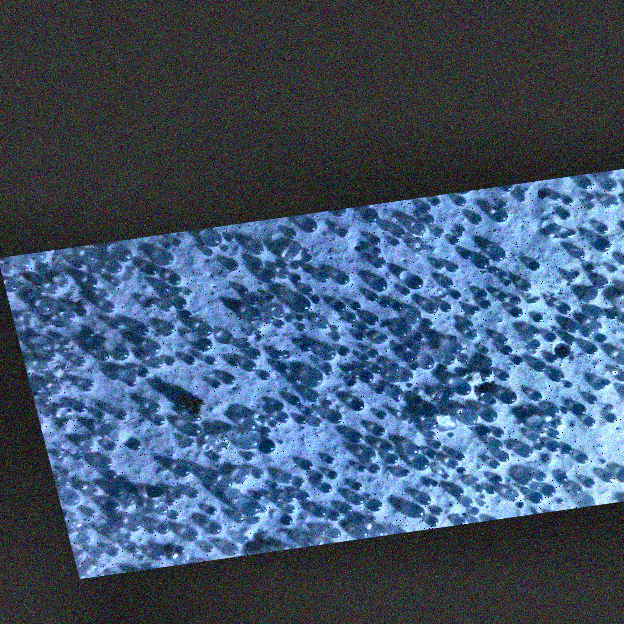GrassBeadSeg: (225, 306, 476, 554), (96, 338, 463, 469), (35, 251, 206, 435), (242, 369, 398, 515), (457, 350, 623, 480), (99, 225, 414, 285), (111, 460, 311, 554), (116, 469, 338, 549), (276, 366, 485, 444), (548, 177, 619, 381), (301, 415, 485, 491), (267, 232, 458, 300), (36, 223, 426, 253), (32, 277, 163, 366), (317, 440, 441, 533), (83, 377, 236, 442), (425, 418, 537, 502), (296, 415, 466, 469), (303, 217, 507, 260), (258, 259, 343, 355), (427, 303, 547, 371), (419, 406, 533, 477), (459, 406, 559, 486), (79, 464, 190, 534), (124, 506, 261, 560), (552, 328, 606, 461), (467, 196, 524, 314), (240, 294, 276, 478), (372, 423, 430, 535), (112, 237, 182, 328), (376, 385, 458, 462), (515, 367, 566, 483), (414, 389, 518, 443), (470, 178, 592, 224), (461, 260, 541, 329), (251, 259, 330, 328), (383, 410, 467, 474), (240, 374, 315, 444), (284, 253, 324, 384), (188, 359, 256, 435), (274, 418, 442, 448), (493, 208, 610, 251), (574, 398, 623, 493), (450, 354, 622, 381), (498, 211, 570, 273), (340, 227, 396, 306), (69, 488, 184, 526), (319, 344, 361, 448), (307, 355, 401, 400), (254, 229, 296, 327), (108, 451, 255, 479), (98, 437, 255, 463), (419, 331, 502, 380), (329, 462, 381, 538), (321, 307, 422, 346), (435, 460, 500, 520), (220, 243, 380, 267), (169, 244, 264, 284), (286, 489, 362, 538), (549, 400, 623, 450), (41, 351, 109, 405), (307, 366, 411, 401), (172, 238, 281, 271), (193, 418, 257, 474), (491, 409, 580, 449), (369, 227, 406, 316), (563, 414, 616, 475), (536, 432, 594, 487), (38, 385, 160, 411), (322, 272, 379, 324), (96, 263, 264, 280), (36, 287, 94, 336), (175, 492, 310, 513), (449, 444, 572, 467), (369, 480, 438, 521), (170, 494, 280, 519), (99, 534, 248, 552), (235, 260, 282, 317), (322, 506, 443, 528), (312, 472, 382, 510), (567, 273, 607, 339), (406, 382, 454, 437), (269, 419, 335, 458), (347, 369, 386, 435), (86, 484, 129, 543), (322, 364, 382, 406), (505, 280, 557, 328), (284, 494, 342, 537), (468, 303, 563, 329), (61, 441, 117, 485), (449, 236, 507, 278), (262, 440, 376, 461), (212, 353, 283, 386), (453, 451, 505, 496), (530, 223, 548, 353), (487, 425, 518, 499), (279, 364, 332, 407), (441, 196, 466, 286), (260, 362, 400, 378), (219, 243, 275, 282), (480, 406, 555, 435), (78, 496, 124, 543), (423, 215, 453, 287), (76, 441, 230, 455), (298, 313, 333, 373), (238, 337, 350, 355), (563, 414, 616, 452), (127, 374, 166, 425), (556, 381, 572, 503), (251, 259, 295, 303), (45, 328, 90, 371), (239, 286, 294, 321), (498, 428, 555, 461), (187, 490, 244, 522), (400, 467, 442, 509), (301, 207, 373, 231), (150, 281, 170, 367), (92, 253, 108, 360), (208, 513, 293, 533), (63, 470, 140, 492), (76, 246, 88, 387), (479, 399, 496, 498), (391, 237, 471, 258), (456, 202, 503, 237), (231, 232, 274, 270), (520, 450, 556, 495), (387, 454, 427, 494), (157, 402, 194, 445), (476, 213, 508, 262), (448, 402, 497, 434), (472, 476, 570, 492), (13, 282, 105, 299), (33, 250, 77, 284), (62, 276, 95, 321), (485, 307, 523, 346), (441, 474, 487, 506), (354, 352, 409, 378), (420, 489, 513, 504), (353, 368, 469, 380), (377, 410, 436, 433), (141, 273, 182, 306), (56, 276, 108, 302), (256, 348, 294, 383), (361, 331, 387, 382), (76, 259, 109, 299), (270, 286, 306, 322), (518, 198, 556, 232), (179, 433, 218, 466), (362, 209, 380, 278), (482, 353, 535, 376), (246, 331, 291, 357), (383, 203, 431, 227), (156, 485, 200, 511), (394, 324, 414, 381), (65, 477, 94, 516), (566, 462, 605, 491), (266, 426, 379, 436), (406, 451, 465, 470), (129, 414, 161, 449), (587, 308, 611, 354), (33, 385, 72, 413), (48, 283, 168, 292), (374, 227, 437, 244), (248, 316, 304, 335), (374, 255, 386, 342), (280, 512, 366, 524), (91, 506, 216, 514), (351, 430, 374, 473), (291, 460, 312, 507), (412, 332, 446, 361), (285, 363, 393, 372), (313, 294, 335, 338), (504, 370, 535, 401), (418, 360, 437, 410), (311, 295, 390, 307), (596, 198, 616, 245), (244, 491, 264, 537), (433, 303, 448, 364), (599, 224, 618, 272), (280, 307, 323, 328), (406, 365, 447, 387), (63, 307, 87, 344), (161, 296, 187, 330), (315, 505, 364, 523), (230, 357, 270, 379), (78, 307, 122, 327), (351, 371, 374, 409), (153, 524, 184, 552), (253, 515, 377, 522), (193, 414, 225, 441), (93, 549, 188, 558), (189, 248, 207, 295), (329, 398, 364, 422), (279, 349, 372, 358), (287, 229, 313, 261), (574, 248, 592, 293), (580, 178, 591, 251), (536, 440, 556, 480), (88, 486, 120, 511), (470, 484, 496, 514), (601, 277, 620, 318), (420, 344, 461, 363), (331, 411, 356, 442), (82, 402, 127, 419), (166, 496, 217, 511), (473, 246, 506, 268), (260, 412, 290, 436), (179, 542, 213, 563), (543, 428, 560, 470), (39, 357, 86, 372), (597, 315, 623, 342), (394, 214, 435, 231), (252, 244, 293, 261), (81, 438, 139, 450), (297, 273, 306, 349), (455, 196, 482, 221), (46, 288, 74, 312), (191, 437, 220, 460), (279, 268, 345, 278), (481, 391, 502, 422), (189, 423, 248, 434), (338, 221, 392, 233), (172, 310, 184, 364), (297, 322, 368, 331), (86, 523, 157, 532), (103, 263, 116, 312), (500, 203, 508, 282), (587, 202, 608, 232), (278, 412, 323, 426), (273, 341, 312, 357), (47, 335, 73, 359), (493, 428, 504, 483), (228, 260, 288, 270), (499, 474, 530, 493), (63, 407, 128, 416), (334, 469, 363, 489), (465, 345, 489, 369), (455, 380, 473, 412), (47, 396, 85, 411), (490, 443, 533, 456), (326, 354, 369, 367), (371, 277, 409, 291), (195, 464, 221, 484), (222, 471, 252, 488), (334, 322, 362, 340), (391, 309, 409, 337), (50, 379, 94, 390), (58, 275, 98, 287), (455, 497, 472, 524), (432, 197, 444, 235), (273, 394, 301, 410), (280, 400, 308, 416), (162, 302, 191, 317), (210, 232, 228, 256), (328, 502, 352, 520), (535, 441, 545, 484), (517, 497, 560, 507), (590, 256, 623, 269), (583, 292, 598, 320), (224, 364, 254, 378), (340, 493, 361, 513), (136, 322, 174, 333), (110, 261, 147, 272), (326, 455, 366, 465), (125, 488, 133, 538), (143, 295, 176, 307), (372, 238, 400, 252), (210, 516, 233, 533), (292, 264, 314, 281), (289, 373, 301, 404), (518, 281, 531, 309), (64, 454, 82, 474), (285, 313, 306, 330), (65, 345, 82, 366), (461, 409, 483, 425), (107, 442, 117, 477), (495, 428, 505, 463), (388, 442, 419, 453), (206, 355, 240, 365), (8, 282, 34, 295), (512, 432, 540, 444), (348, 378, 384, 387), (572, 263, 593, 278), (286, 473, 294, 512), (157, 503, 169, 529), (562, 384, 573, 412), (601, 182, 617, 201), (108, 494, 135, 505), (217, 451, 254, 459), (428, 449, 465, 457), (507, 441, 544, 449), (410, 351, 439, 361), (40, 342, 57, 359), (457, 224, 466, 256), (558, 473, 594, 481), (128, 541, 152, 553), (526, 260, 537, 286), (429, 516, 464, 524), (535, 361, 542, 401), (564, 192, 595, 201), (264, 314, 285, 327), (294, 477, 309, 495), (407, 503, 425, 518), (181, 525, 199, 540), (63, 489, 81, 504), (195, 336, 213, 351), (216, 329, 234, 344), (196, 321, 214, 336), (293, 296, 311, 311), (14, 256, 32, 271), (204, 231, 222, 246), (430, 472, 449, 486), (180, 543, 213, 551), (166, 355, 195, 364), (560, 404, 586, 414), (552, 191, 563, 214), (552, 192, 573, 204), (260, 480, 278, 494), (582, 327, 594, 348), (124, 516, 142, 530), (112, 345, 130, 359), (144, 339, 162, 353), (243, 306, 261, 320), (116, 247, 134, 261), (156, 250, 174, 264), (37, 300, 55, 314), (407, 275, 425, 289), (381, 298, 403, 309), (305, 264, 313, 294), (186, 355, 216, 363), (412, 455, 429, 469), (259, 438, 276, 452), (125, 367, 138, 385), (422, 197, 441, 209), (46, 342, 65, 354), (531, 489, 550, 501), (357, 462, 367, 484), (244, 336, 254, 358), (427, 431, 437, 452), (74, 518, 90, 531), (351, 496, 377, 504), (314, 508, 340, 516), (473, 481, 486, 497), (449, 224, 459, 244), (357, 527, 377, 537), (271, 480, 280, 502), (168, 286, 176, 310), (82, 253, 95, 267), (564, 303, 571, 329), (372, 236, 382, 254), (463, 497, 479, 508), (411, 364, 440, 370), (569, 322, 586, 332), (310, 471, 323, 484), (372, 348, 379, 372), (171, 488, 183, 502), (241, 286, 252, 301), (25, 287, 45, 295), (283, 474, 303, 482), (137, 322, 150, 334), (145, 263, 158, 275), (50, 382, 63, 394), (137, 365, 150, 377), (319, 481, 332, 493), (481, 483, 496, 493), (586, 193, 595, 209), (259, 320, 277, 328), (159, 521, 171, 533), (151, 547, 164, 558), (255, 505, 268, 516), (309, 406, 316, 426), (253, 467, 265, 478), (298, 253, 307, 267), (526, 481, 541, 489), (597, 276, 609, 286), (318, 272, 330, 282), (338, 274, 350, 284), (584, 416, 596, 426), (602, 472, 614, 482), (576, 452, 588, 462), (382, 443, 394, 453), (603, 402, 614, 412), (528, 326, 539, 336), (591, 321, 603, 330), (587, 394, 598, 403), (442, 302, 452, 311), (422, 318, 432, 327), (369, 292, 379, 301), (448, 262, 458, 271), (548, 353, 558, 362), (478, 288, 487, 297), (401, 286, 410, 295), (503, 345, 512, 354), (356, 331, 365, 340), (514, 355, 523, 364), (547, 332, 556, 341), (566, 334, 575, 343), (178, 286, 187, 295), (467, 330, 477, 338), (336, 302, 346, 310), (351, 301, 361, 309), (498, 292, 508, 300), (512, 295, 522, 303), (452, 290, 461, 298), (482, 299, 491, 307), (460, 353, 469, 361), (498, 335, 507, 343), (347, 313, 356, 321), (435, 260, 444, 268), (534, 313, 543, 321), (531, 340, 540, 348)
